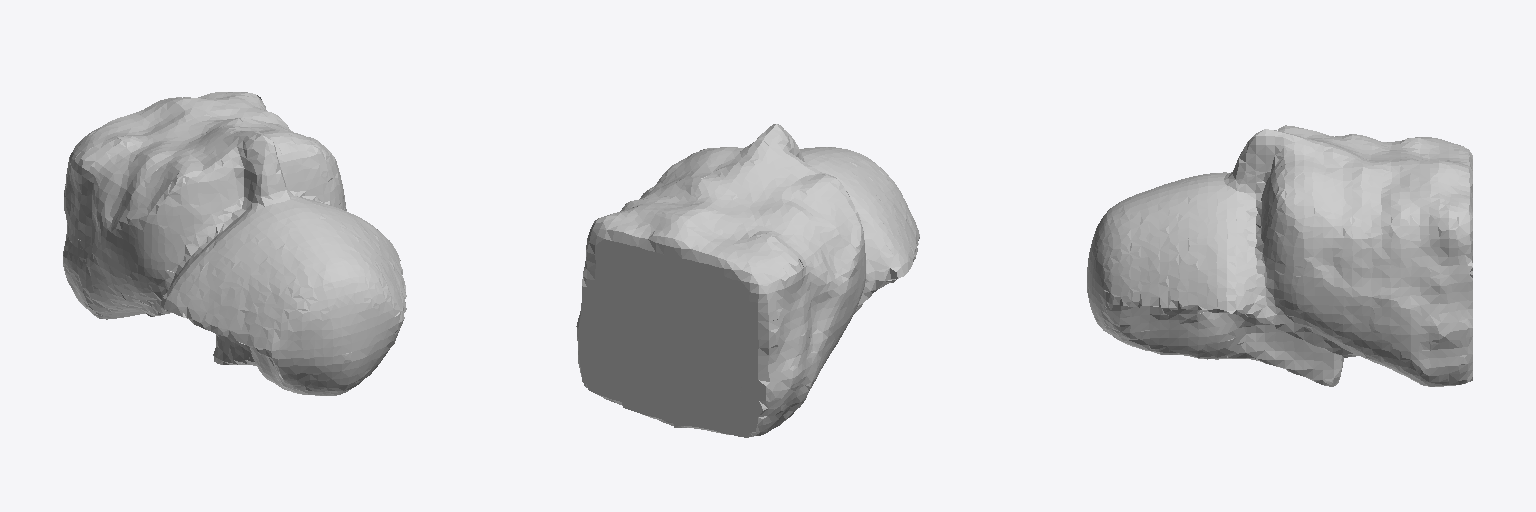
Rendered from 73877-pharaoh_Clustering_90pct.obj.
3 renders of one model, left to right at view 1: azimuth 30°, elevation 25°; view 2: azimuth 150°, elevation 25°; view 3: azimuth 270°, elevation 25°, orthographic.
Bounding box in the file's own units: 0.6843 × 0.7238 × 0.9999.